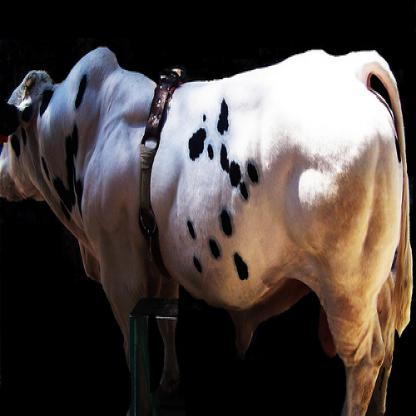cow: (0, 48, 412, 414)
